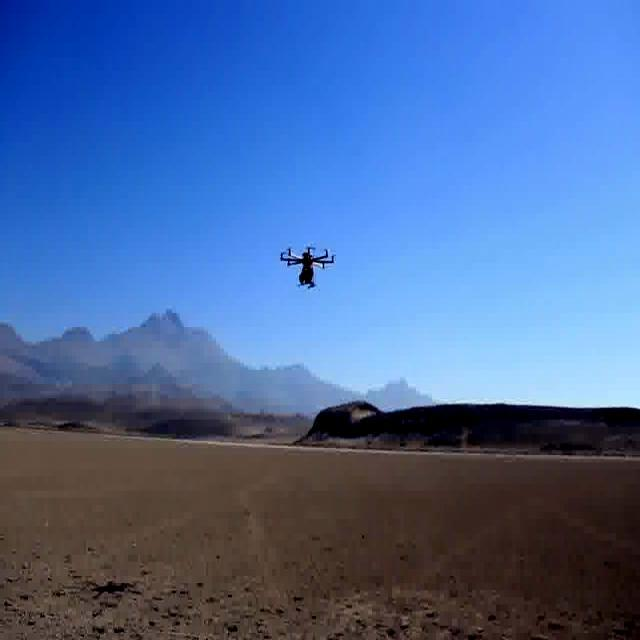drone: (277, 236, 335, 296)
